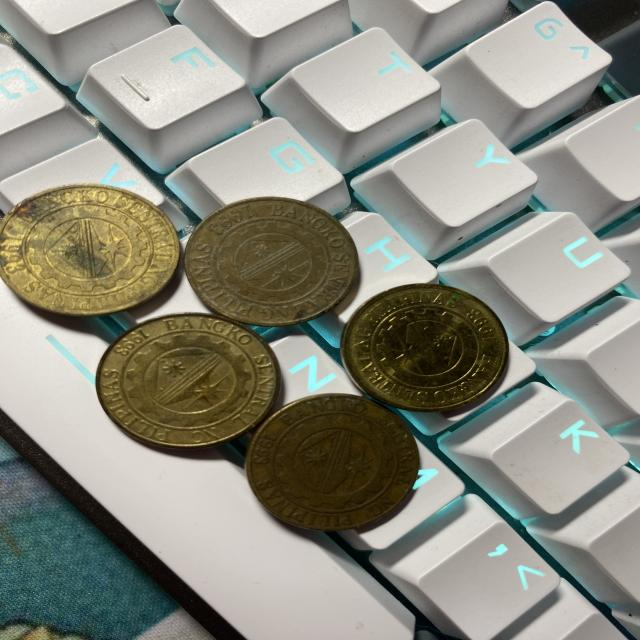25Cent_Old_Back: (8, 190, 168, 302), (256, 404, 405, 518), (118, 324, 266, 436), (200, 205, 346, 315), (362, 293, 503, 404)
